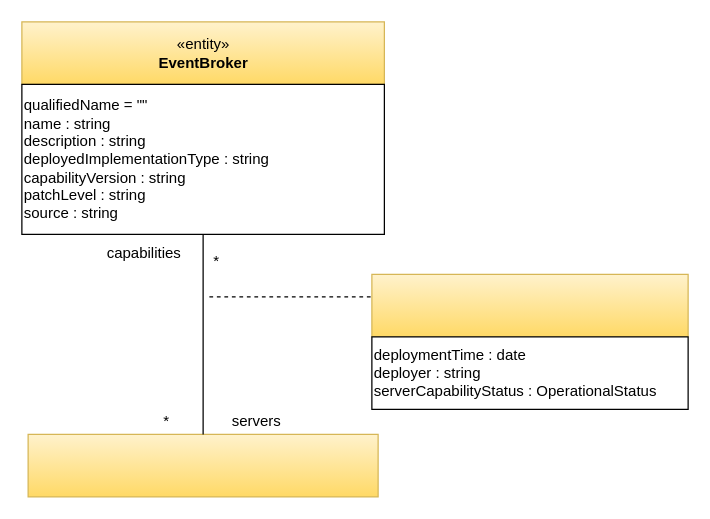
Image size: 710x519. Some labels were removed from this diagram. Here are the shapes that lost their labels. From the top down, the box of each, then its label:
(371, 273, 688, 337): «relationship» SoftwareServerSupportedCapability
(27, 433, 378, 497): «entity» SoftwareServer
